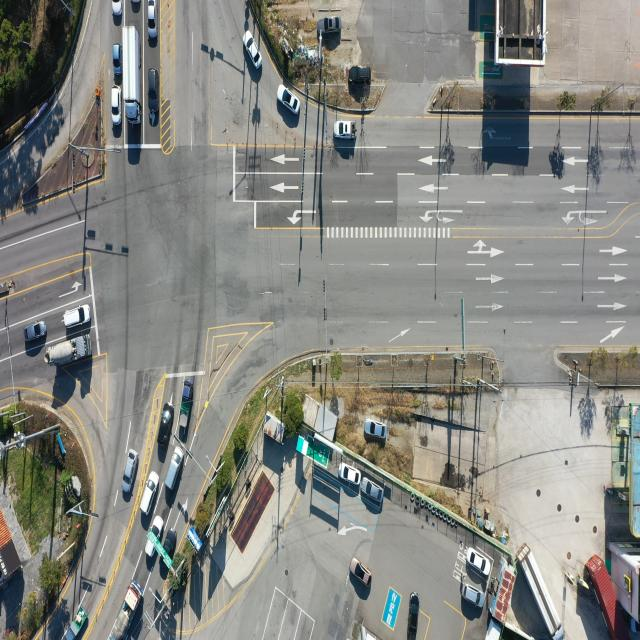car: (139, 471, 159, 516), (165, 445, 184, 492), (124, 449, 139, 495), (63, 305, 91, 329), (242, 29, 260, 66), (160, 530, 177, 569), (278, 83, 300, 113), (470, 548, 492, 576), (157, 406, 172, 447), (351, 559, 372, 587), (462, 583, 485, 607), (363, 480, 385, 504), (336, 120, 356, 144), (340, 463, 362, 484), (24, 321, 47, 341), (148, 70, 158, 114), (364, 419, 385, 439), (410, 593, 421, 630), (147, 1, 157, 41), (113, 42, 123, 77), (111, 87, 120, 125), (348, 67, 371, 80), (323, 15, 341, 30), (111, 0, 122, 19)
medium_truck: (521, 543, 566, 637), (112, 580, 144, 640), (126, 24, 143, 124), (46, 334, 92, 368)
small_truck: (145, 516, 165, 561), (64, 604, 88, 640), (178, 377, 194, 430)
